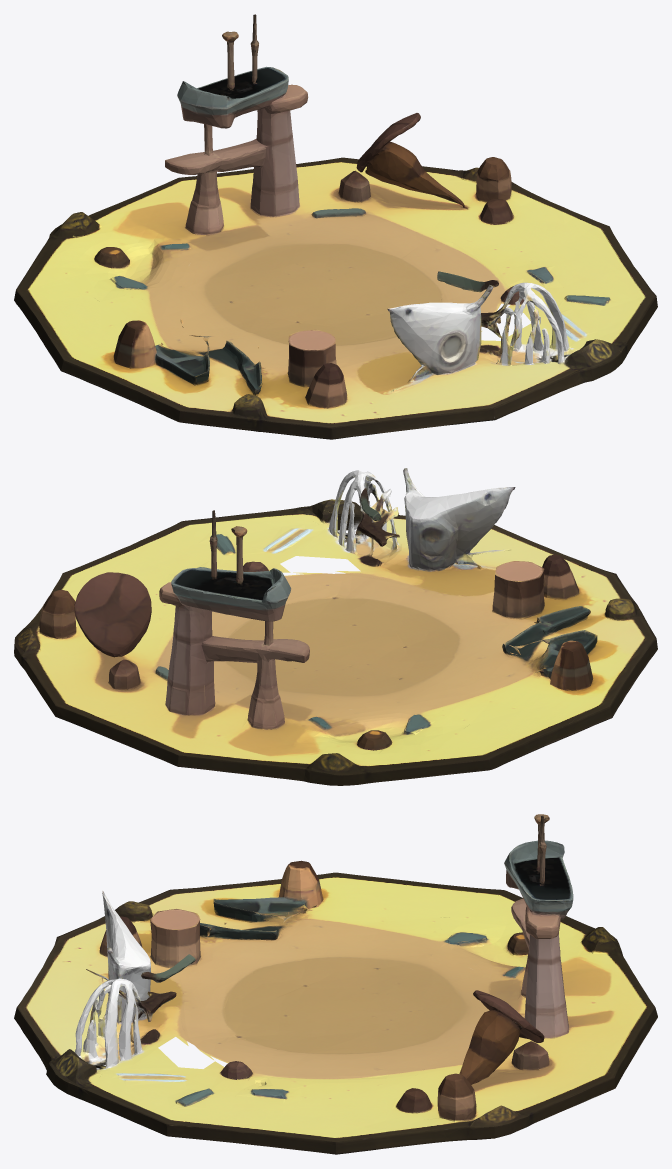
Rendered from desert.glb.
3 views of the same model, one above another, from view 1: azimuth 30°, elevation 25°; view 2: azimuth 150°, elevation 25°; view 3: azimuth 270°, elevation 25° (orthographic).
Visible parts, largest first — view 1: geometry_0; view 2: geometry_0; view 3: geometry_0.
Part boxes in pixels (x1,y1,x2,y2): geometry_0: [14, 14, 657, 439]; geometry_0: [14, 468, 657, 785]; geometry_0: [14, 814, 657, 1154].
Size of the model in its own units: 0.9999 by 0.3775 by 0.9993.
1 material, 1 textured.
